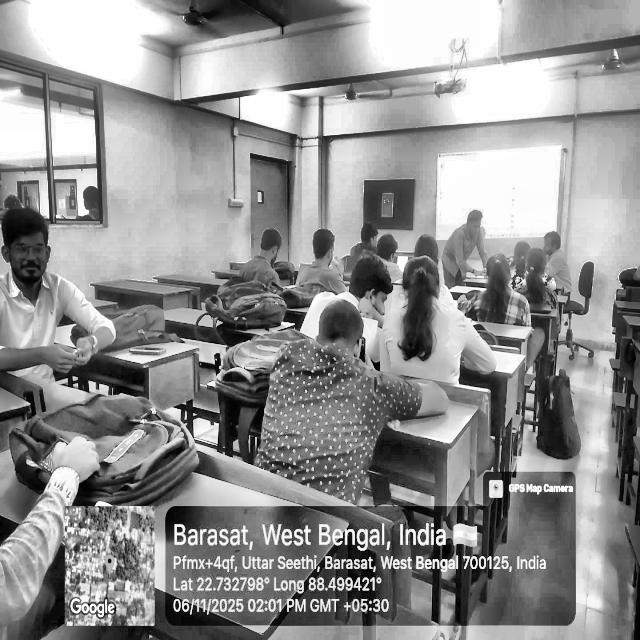Focus: (304, 226, 356, 302), (536, 212, 574, 286), (457, 202, 498, 268), (354, 218, 393, 252)
Not Focus: (350, 251, 457, 330), (314, 296, 381, 409), (4, 204, 56, 286), (474, 252, 517, 334), (257, 227, 286, 271)
